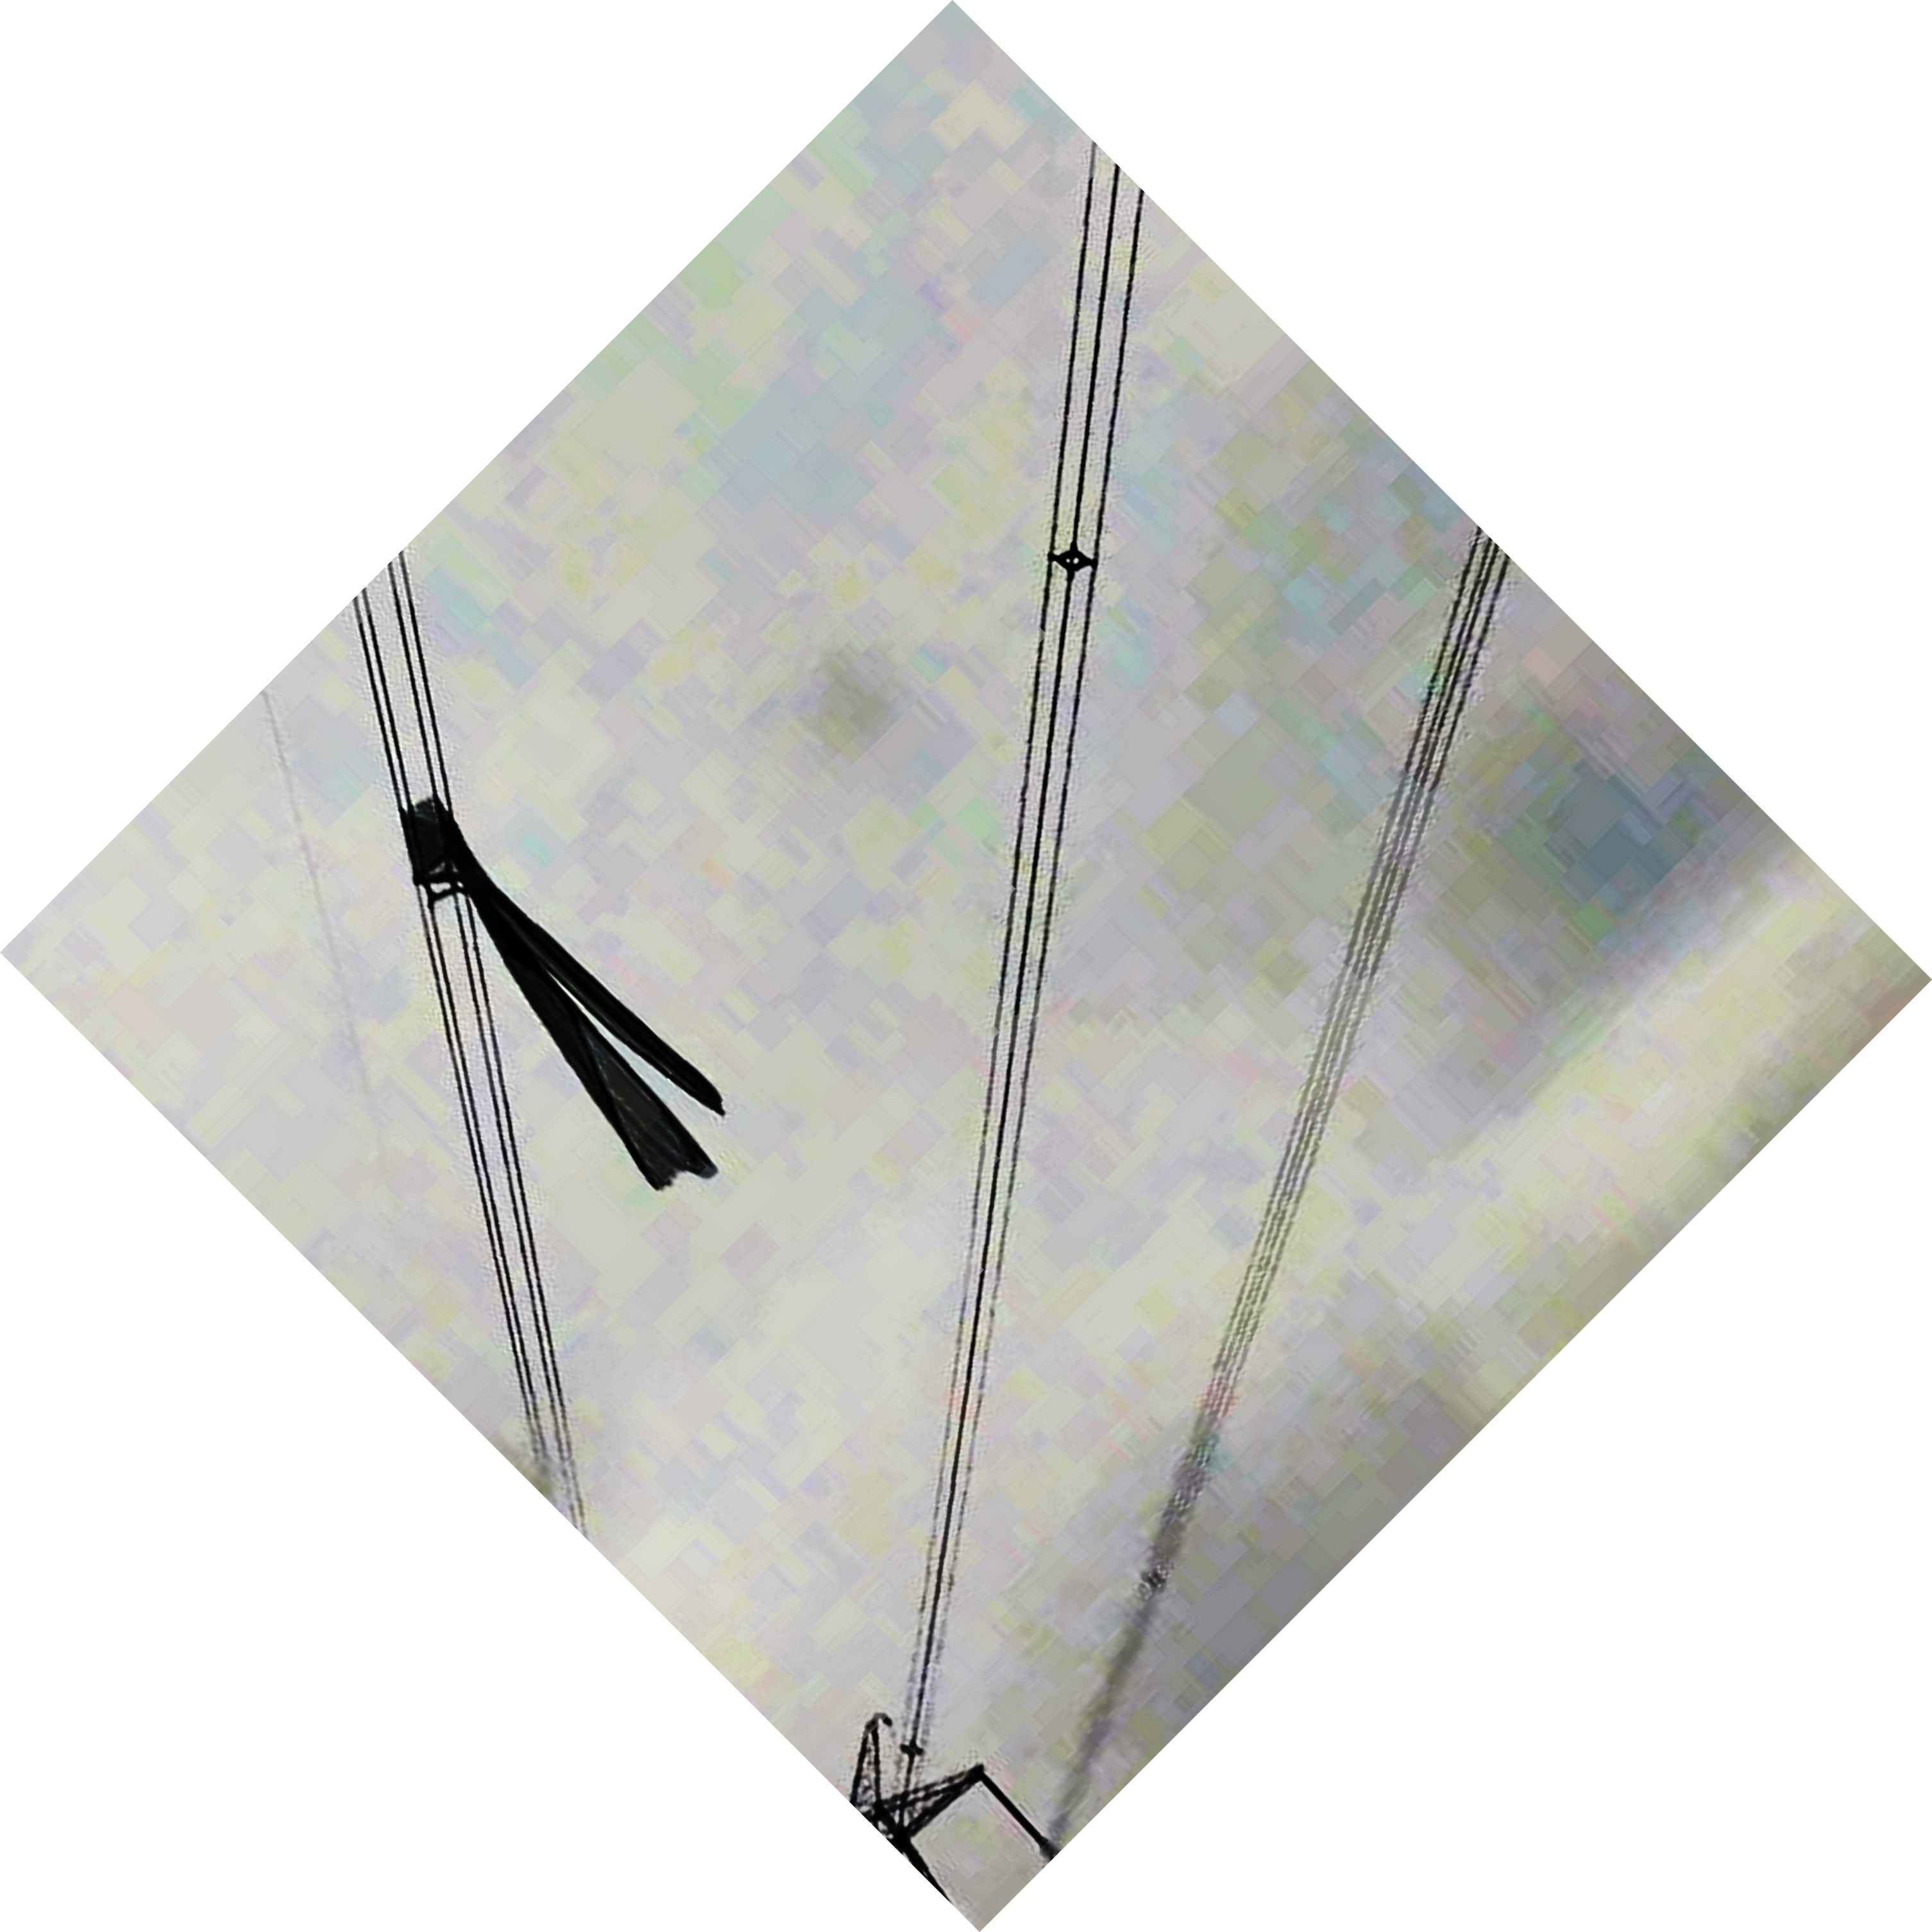wire foreign body: (373, 766, 741, 1198)
